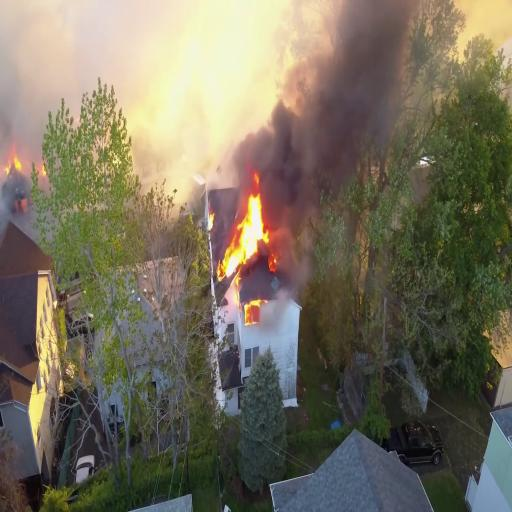fire: (215, 179, 268, 278)
smoke: (223, 6, 394, 152)
